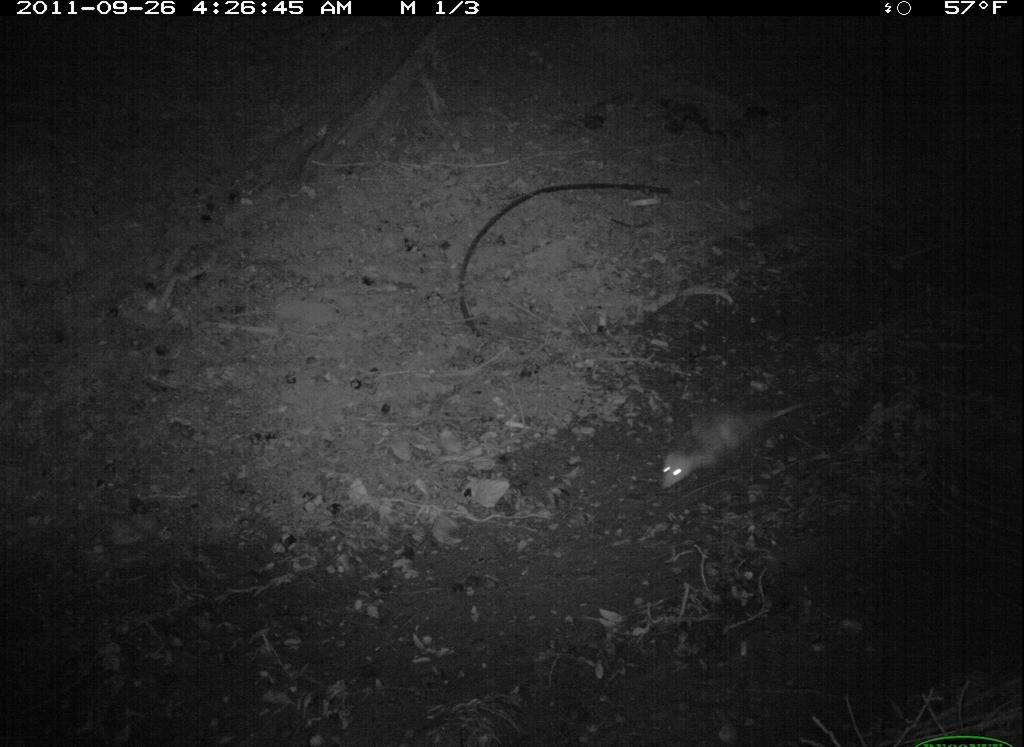opossum: (657, 393, 821, 493)
